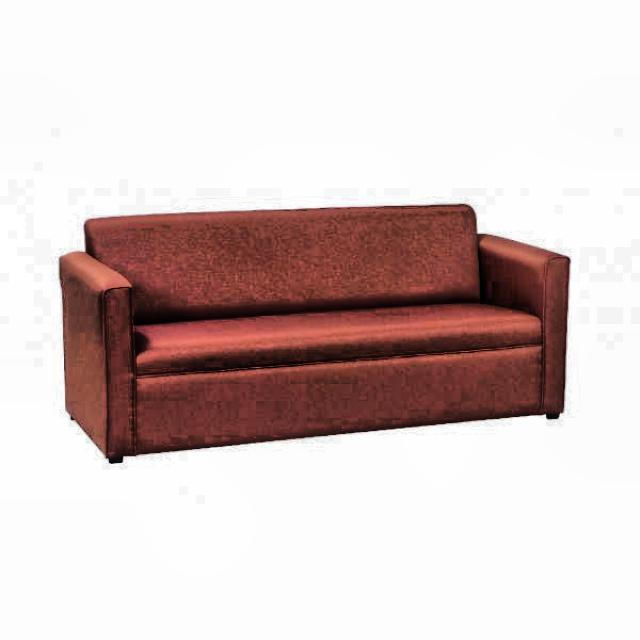sofa: (58, 202, 570, 464)
